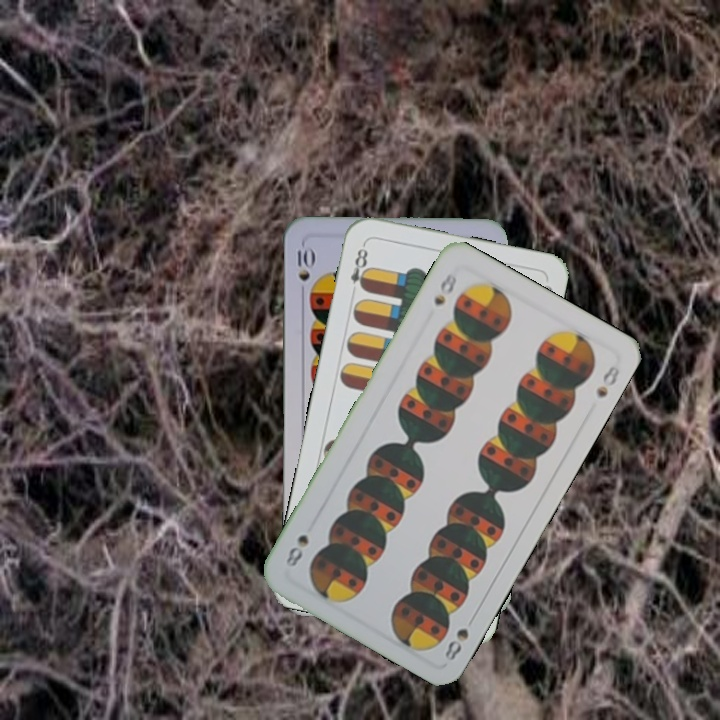E8: (346, 240, 372, 293)
S10: (293, 241, 315, 284)
S8: (440, 610, 479, 663), (429, 268, 460, 308)
